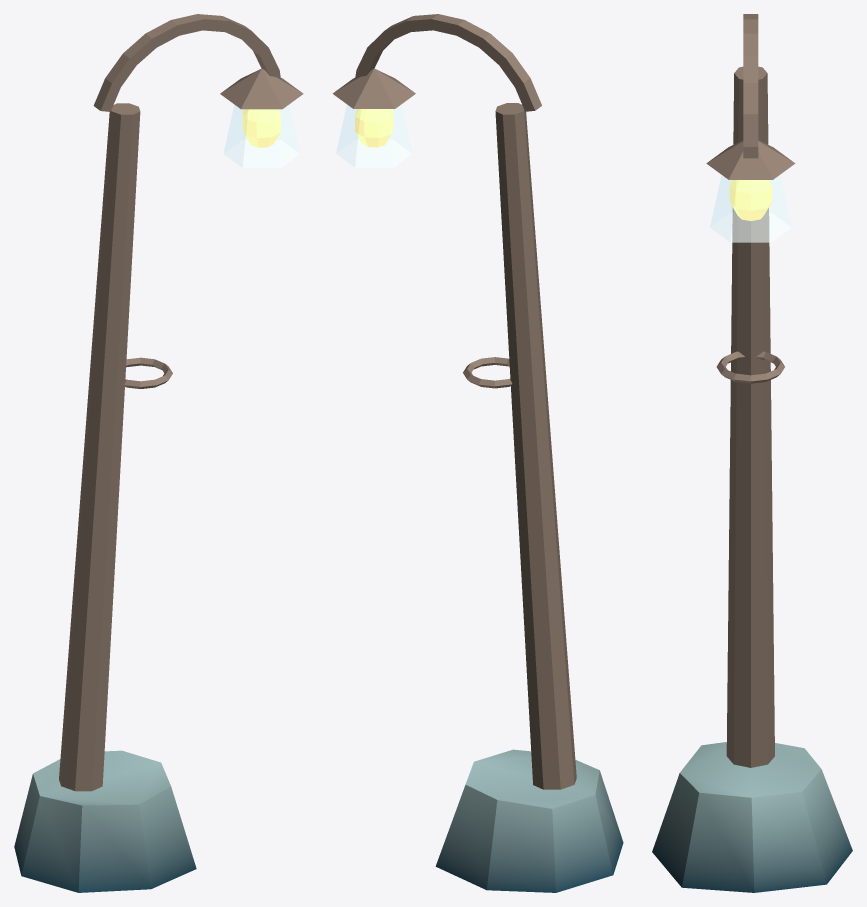
Rendered from prop_street_lamp.glb.
3 views of the same model, side by side, from view 1: azimuth 30°, elevation 25°; view 2: azimuth 150°, elevation 25°; view 3: azimuth 270°, elevation 25° (orthographic). The views are drawn at different scales.
Parts seen in each view (by area): view 1: prop_street_lamp_metal, prop_street_lamp_stone, prop_street_lamp_glass, prop_street_lamp_amber; view 2: prop_street_lamp_metal, prop_street_lamp_stone, prop_street_lamp_glass, prop_street_lamp_amber; view 3: prop_street_lamp_metal, prop_street_lamp_stone, prop_street_lamp_glass, prop_street_lamp_amber.
Part boxes in pixels (bbox=[...]): prop_street_lamp_metal: bbox=[59, 14, 303, 791]; prop_street_lamp_stone: bbox=[14, 750, 196, 892]; prop_street_lamp_glass: bbox=[223, 105, 299, 167]; prop_street_lamp_amber: bbox=[242, 109, 280, 147]; prop_street_lamp_metal: bbox=[332, 14, 576, 789]; prop_street_lamp_stone: bbox=[435, 749, 623, 892]; prop_street_lamp_glass: bbox=[336, 104, 412, 167]; prop_street_lamp_amber: bbox=[355, 109, 393, 147]; prop_street_lamp_metal: bbox=[706, 14, 795, 767]; prop_street_lamp_stone: bbox=[652, 742, 852, 892]; prop_street_lamp_glass: bbox=[710, 175, 791, 242]; prop_street_lamp_amber: bbox=[729, 180, 771, 220].
Size of the model in its own units: 1.79 by 5.18 by 1.08.
